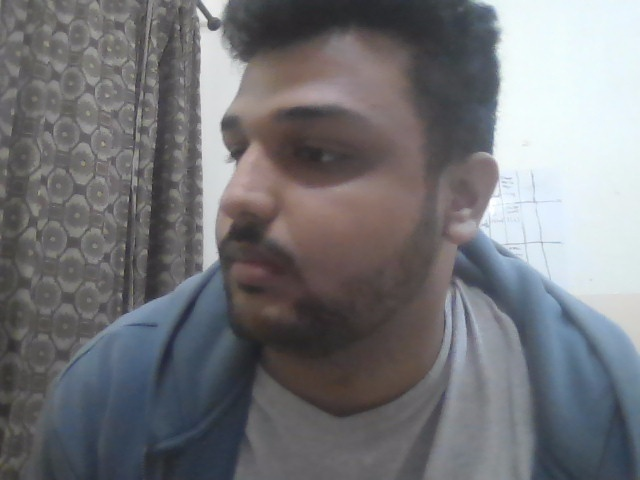awake: (138, 32, 520, 350)
